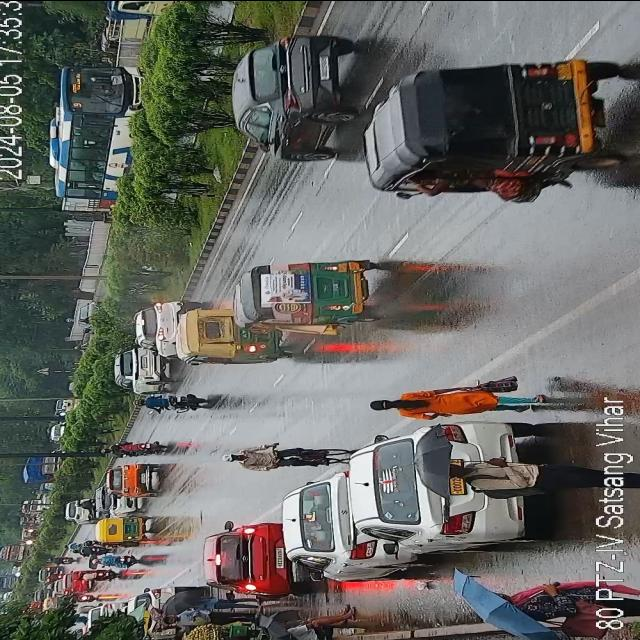2-wheelers: (134, 386, 208, 416), (36, 554, 64, 584), (112, 439, 168, 453), (88, 553, 138, 565), (74, 570, 118, 580), (63, 594, 98, 604), (72, 547, 107, 555), (60, 541, 84, 549), (70, 501, 92, 509), (99, 448, 119, 456), (82, 537, 98, 544)
auto: (361, 54, 613, 202), (206, 524, 298, 599), (98, 515, 150, 543)
bus: (52, 60, 148, 212)
car: (353, 434, 499, 558), (230, 27, 352, 156), (280, 474, 398, 576), (114, 340, 166, 390), (132, 584, 179, 632), (105, 459, 159, 497), (92, 484, 132, 512), (57, 574, 89, 592), (67, 508, 91, 522)
pedestrian: (432, 452, 592, 490), (368, 386, 534, 416), (260, 602, 360, 640), (220, 440, 336, 472), (488, 583, 588, 613), (160, 614, 254, 628), (182, 596, 252, 612)
truck: (228, 258, 380, 343), (106, 0, 180, 45)
